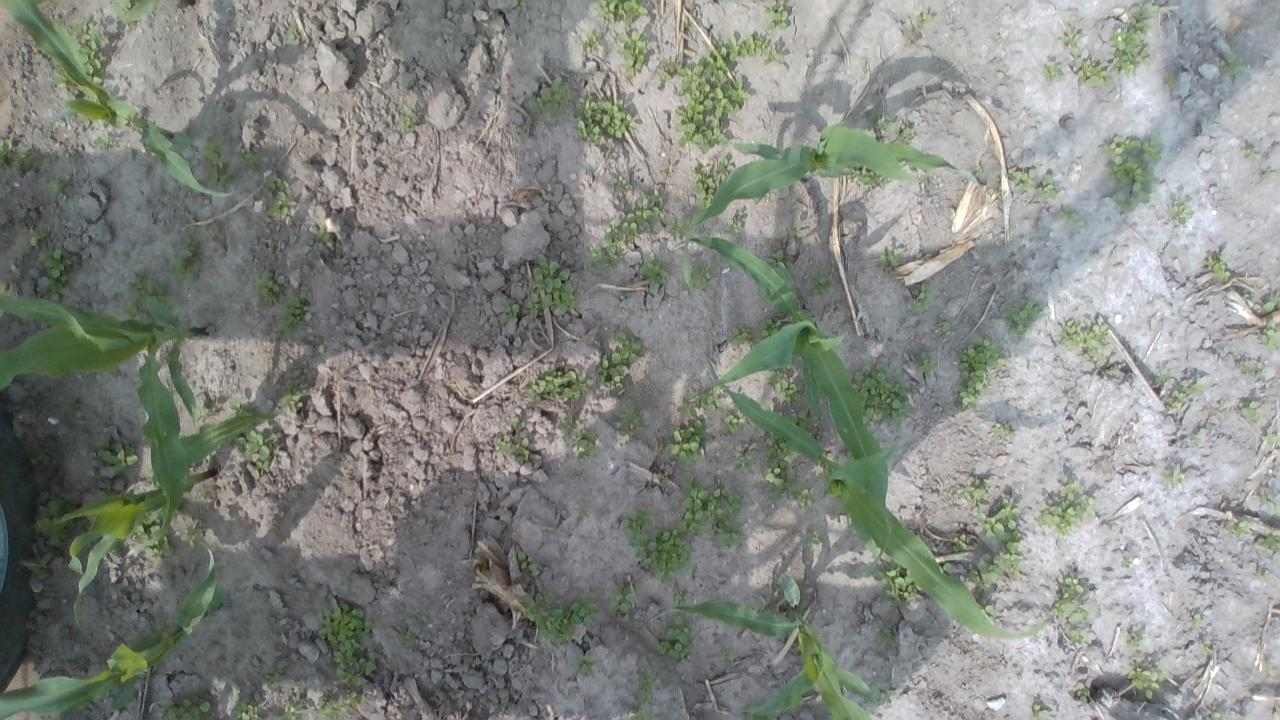Maize: (702, 352, 1052, 644), (669, 232, 892, 512), (0, 290, 201, 561), (42, 410, 272, 628), (682, 124, 979, 286), (0, 0, 232, 205), (0, 528, 230, 720), (640, 572, 876, 720), (124, 0, 196, 21)
Weeds: (674, 40, 754, 152), (591, 189, 663, 271), (318, 602, 378, 688), (520, 590, 598, 641), (850, 360, 910, 426), (1106, 3, 1159, 76), (678, 476, 744, 534), (1104, 133, 1164, 195), (1039, 476, 1098, 538), (960, 540, 1025, 592), (574, 95, 640, 146), (526, 254, 574, 318), (34, 496, 86, 552), (958, 338, 1006, 391), (596, 333, 642, 388), (64, 21, 102, 86), (874, 560, 924, 608), (528, 367, 592, 404), (1060, 318, 1110, 364), (646, 528, 688, 582), (126, 270, 176, 312), (168, 239, 208, 289), (271, 292, 310, 342), (976, 498, 1020, 540), (620, 507, 656, 558), (664, 419, 704, 464), (616, 28, 650, 80), (1054, 576, 1088, 626), (158, 690, 214, 720), (200, 140, 233, 190), (38, 248, 73, 295), (761, 460, 800, 502), (263, 173, 298, 219), (528, 82, 570, 120), (96, 441, 140, 477), (656, 615, 690, 660), (244, 430, 282, 470), (1002, 298, 1040, 338), (253, 267, 289, 307), (678, 386, 720, 420), (597, 0, 649, 27), (1070, 48, 1106, 87), (1128, 663, 1165, 700), (768, 366, 802, 404), (614, 398, 642, 442), (692, 163, 717, 209), (953, 478, 991, 508), (640, 254, 670, 290), (229, 693, 265, 720), (849, 164, 892, 185), (610, 582, 636, 616), (752, 34, 782, 63), (573, 426, 598, 460), (904, 284, 934, 312), (146, 535, 174, 564), (790, 409, 816, 440), (277, 383, 303, 413), (1008, 166, 1038, 192), (1165, 198, 1193, 225), (1205, 255, 1231, 284), (764, 0, 789, 30), (1118, 192, 1152, 214), (1239, 358, 1269, 382), (16, 146, 42, 173), (108, 0, 132, 29), (637, 670, 656, 706), (866, 111, 894, 135), (498, 300, 524, 325), (809, 273, 836, 297), (124, 303, 152, 326), (766, 431, 787, 461), (1256, 526, 1280, 552), (1224, 517, 1252, 539), (1261, 320, 1280, 352), (1037, 175, 1060, 200), (279, 699, 306, 720), (724, 408, 746, 433), (692, 260, 712, 287), (239, 146, 257, 176), (179, 528, 207, 547), (574, 654, 596, 678), (1220, 54, 1244, 76), (62, 392, 83, 417), (0, 138, 18, 167), (880, 248, 903, 270), (1252, 297, 1280, 315), (318, 700, 343, 720), (263, 665, 288, 685), (516, 550, 538, 572), (765, 248, 787, 270), (914, 7, 934, 31), (977, 602, 995, 628), (1240, 398, 1262, 419), (714, 534, 742, 550), (1128, 628, 1144, 656), (760, 318, 782, 338), (658, 57, 677, 80), (398, 108, 416, 132), (798, 488, 816, 512), (556, 413, 572, 440), (1164, 462, 1182, 486), (734, 327, 754, 348), (317, 216, 333, 242), (51, 70, 74, 88), (670, 589, 691, 608), (144, 512, 162, 534), (399, 626, 417, 648), (1044, 64, 1066, 82), (736, 449, 752, 472), (918, 358, 938, 376), (724, 217, 744, 235), (1168, 390, 1185, 411), (714, 156, 730, 178), (951, 534, 970, 552), (1061, 28, 1079, 47), (128, 523, 148, 540), (514, 439, 530, 460), (1185, 382, 1208, 396), (47, 177, 65, 194), (227, 398, 246, 414), (29, 230, 48, 246), (1187, 612, 1204, 629), (960, 392, 976, 410), (1030, 704, 1048, 720), (790, 220, 803, 242), (879, 627, 893, 647), (990, 424, 1011, 437), (1263, 428, 1280, 444), (670, 219, 688, 234), (344, 691, 360, 707), (1064, 208, 1080, 224), (718, 648, 735, 663), (584, 31, 598, 49), (882, 686, 896, 704), (1070, 630, 1088, 644), (806, 528, 821, 544), (1076, 682, 1088, 702), (896, 127, 912, 142), (1263, 490, 1280, 504), (1241, 147, 1259, 160), (629, 709, 650, 720), (288, 23, 300, 42), (498, 436, 512, 452), (1200, 640, 1214, 656), (936, 562, 952, 576), (614, 175, 628, 190), (1155, 370, 1168, 386), (194, 408, 210, 420), (936, 321, 952, 333), (1258, 569, 1270, 583), (512, 0, 524, 13), (95, 136, 108, 148), (767, 582, 780, 594), (1190, 435, 1202, 447), (783, 610, 795, 622), (661, 166, 673, 178), (512, 420, 526, 430), (494, 702, 508, 712), (995, 189, 1006, 201), (489, 650, 502, 660), (1268, 665, 1278, 678), (1208, 711, 1222, 720), (81, 118, 92, 129), (658, 471, 669, 481), (1167, 78, 1178, 88), (1263, 170, 1277, 177), (318, 344, 328, 353), (64, 93, 75, 100), (1123, 559, 1131, 567)
